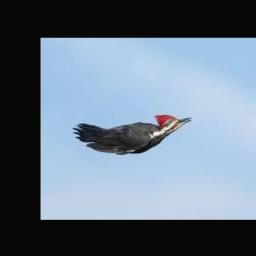Woodpecker: (71, 114, 191, 154)
